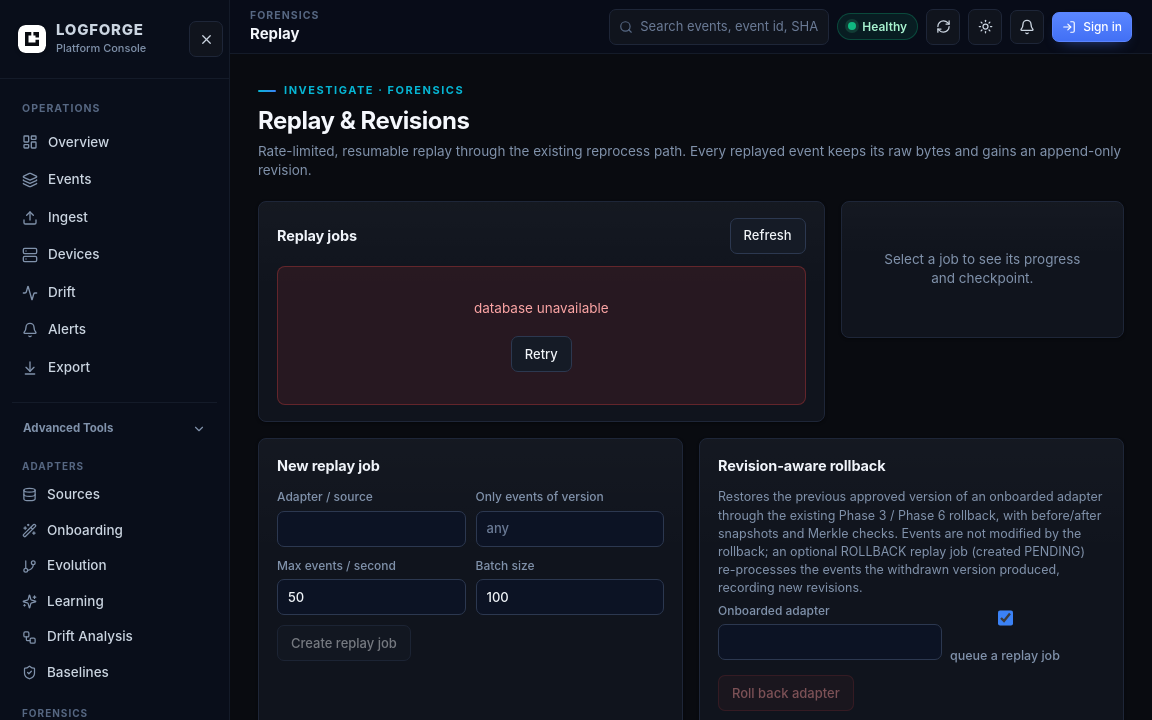
Test case: loading / empty / error states › shows the API error with a retry
Expected: the text "database unavailable" is shown, [474,299,609,318]
Click the button "Retry" at (541, 354), box [511,336,572,372]
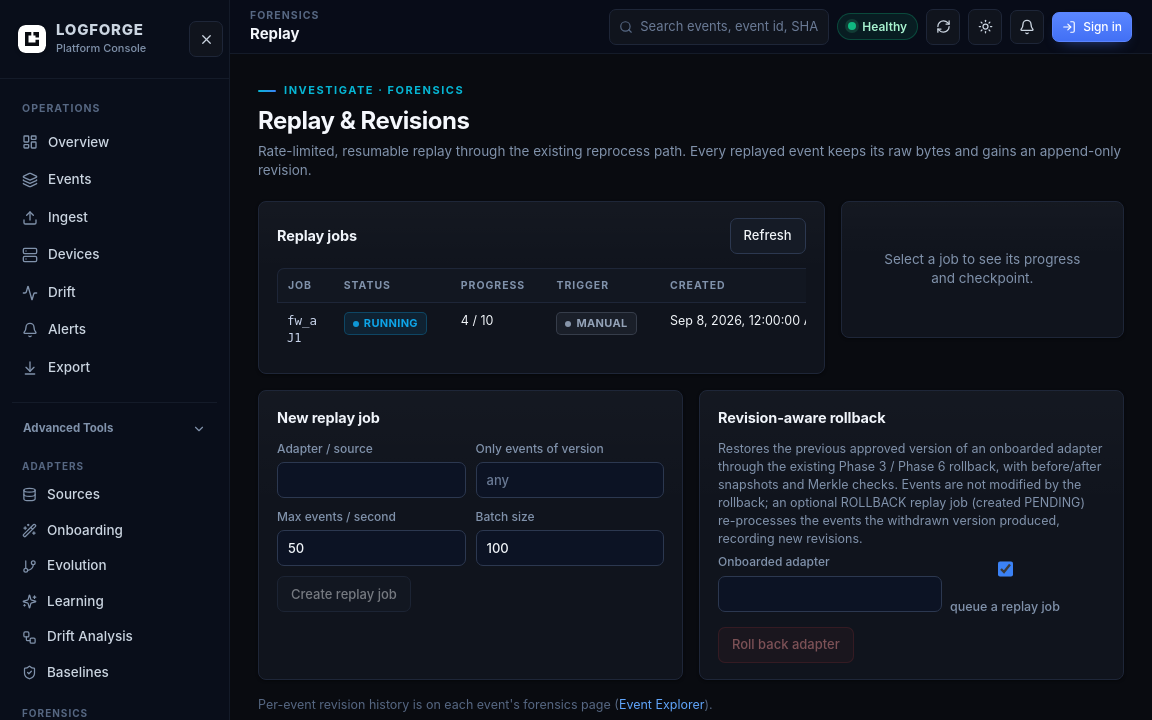
Expected: the text "fw_a" is shown, [287,313,317,328]
